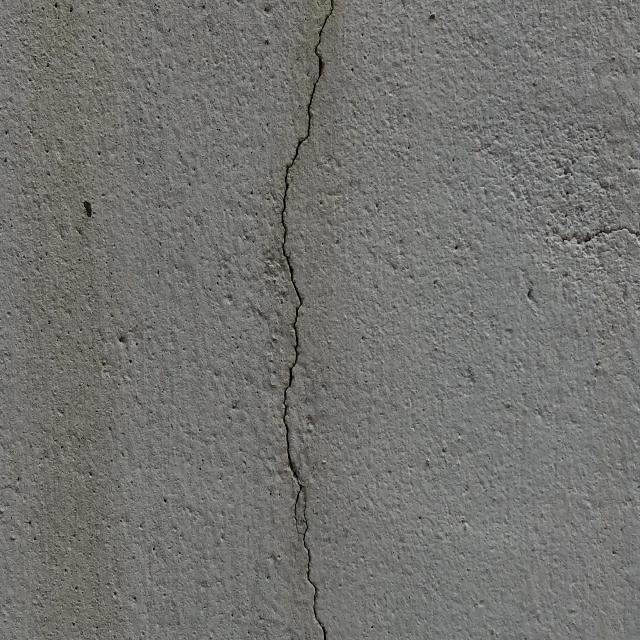SurfaceCrack: (232, 0, 378, 639)
